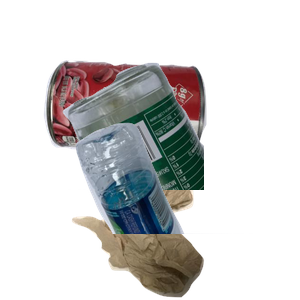glass: (60, 60, 300, 240)
metal: (41, 58, 240, 207)
plastic: (73, 120, 300, 300)
trash: (66, 137, 263, 300)
